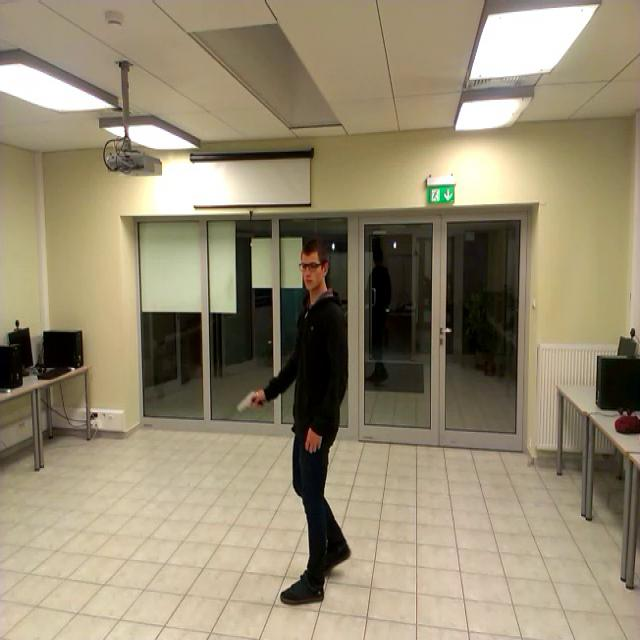handgun: (227, 378, 266, 422)
